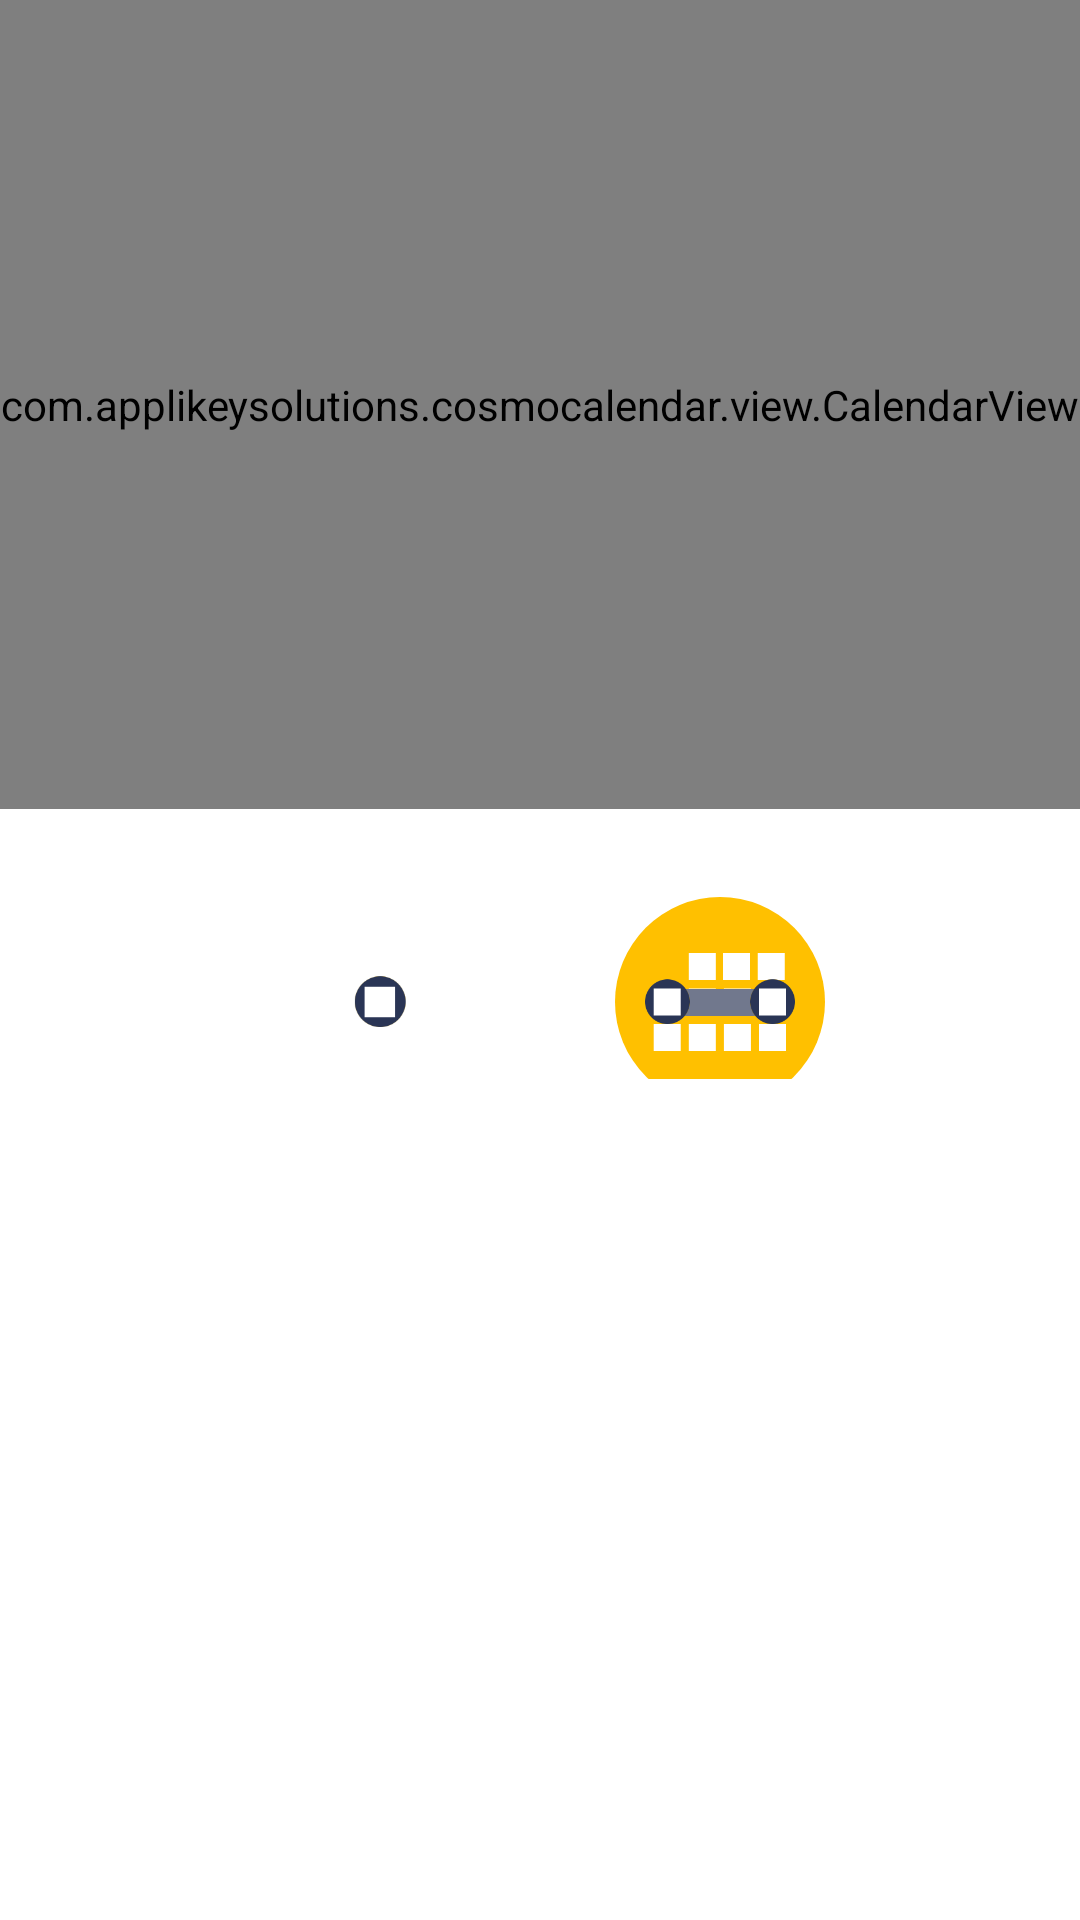

Named icons in this screenshot (1080w x 1920h) and their centers, [x,y]:
calendar range: [720,1002]
calendar single: [380,1001]
